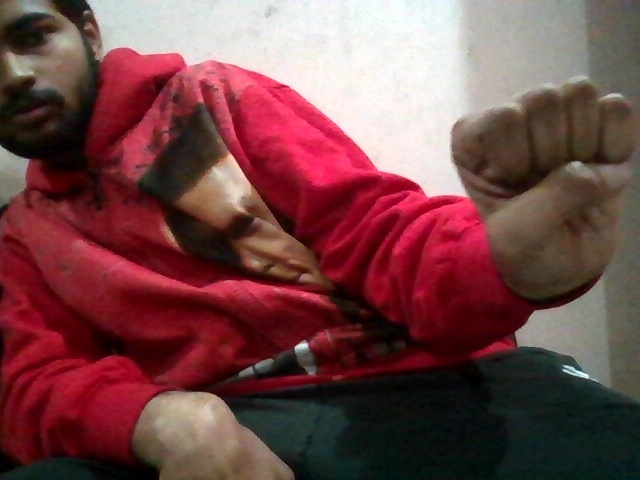E: (426, 68, 640, 307)
